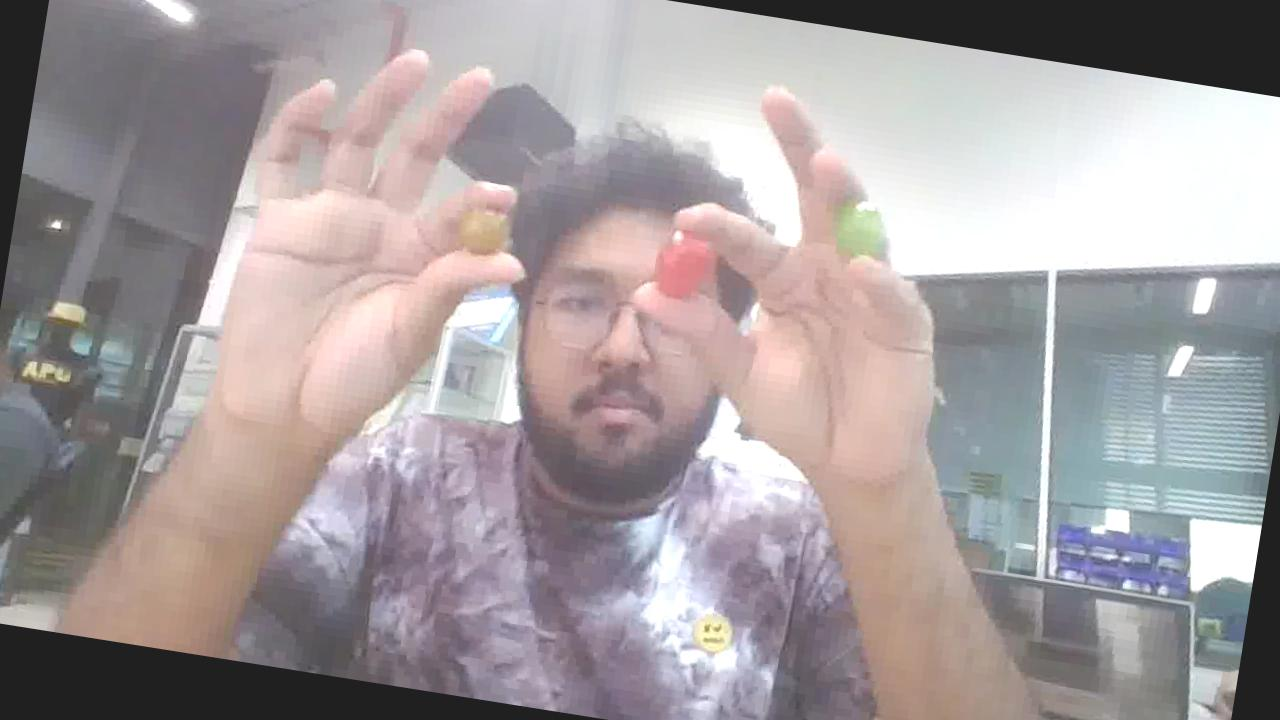green_cherry_tomato: (834, 200, 887, 260)
red_cherry_tomato: (655, 230, 715, 298)
yellow_cherry_tomato: (458, 209, 509, 254)
